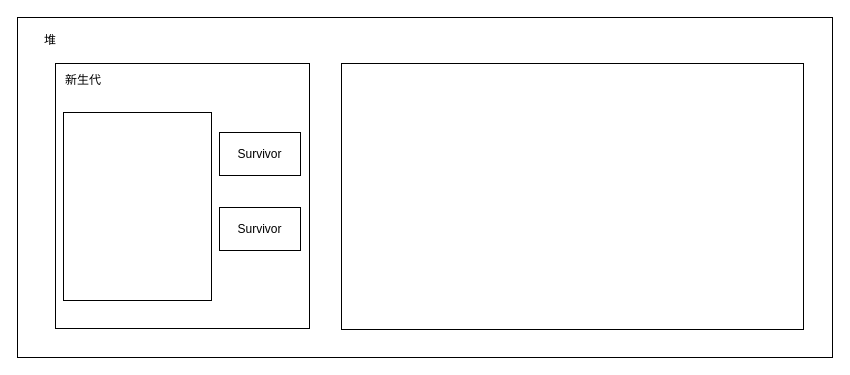
The diagram is 850 pixels wide and 375 high, and some of its shapes have lost their labels. The shapes that lost their labels are listed below. From the top down, each one's box as (x1, y1, x2, y2) in pixels, then its label:
(62, 112, 212, 300): Eden区
(340, 62, 804, 330): 老年代
